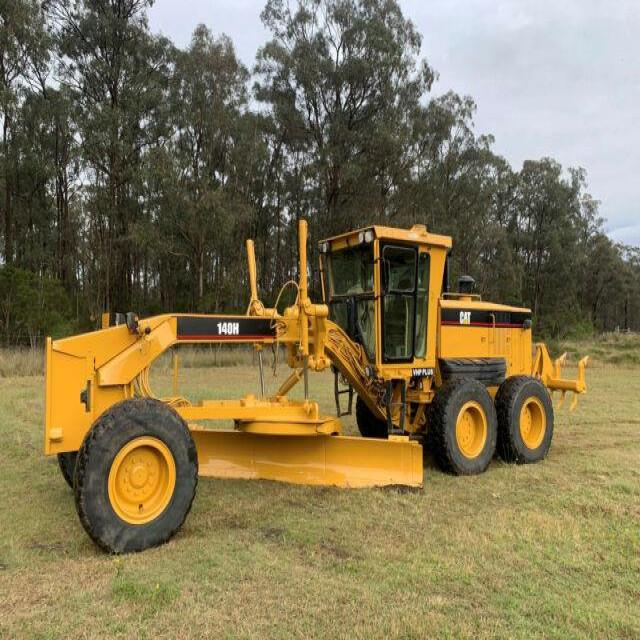Grader: (44, 188, 581, 556)
